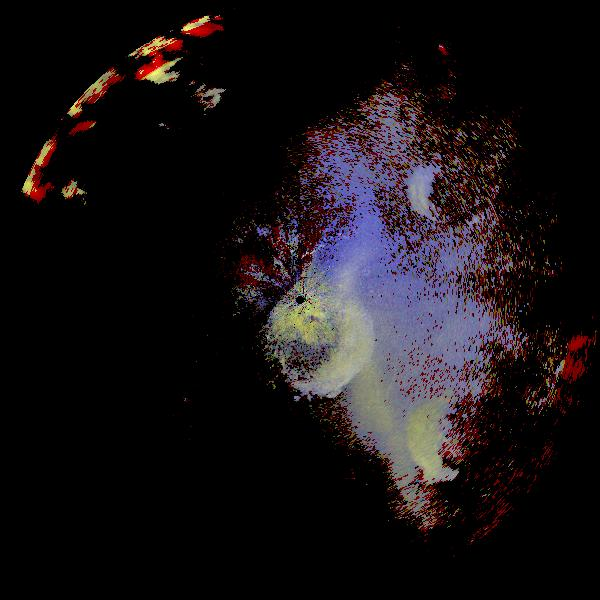roost: (238, 260, 400, 422), (388, 378, 520, 510), (388, 130, 511, 253)
